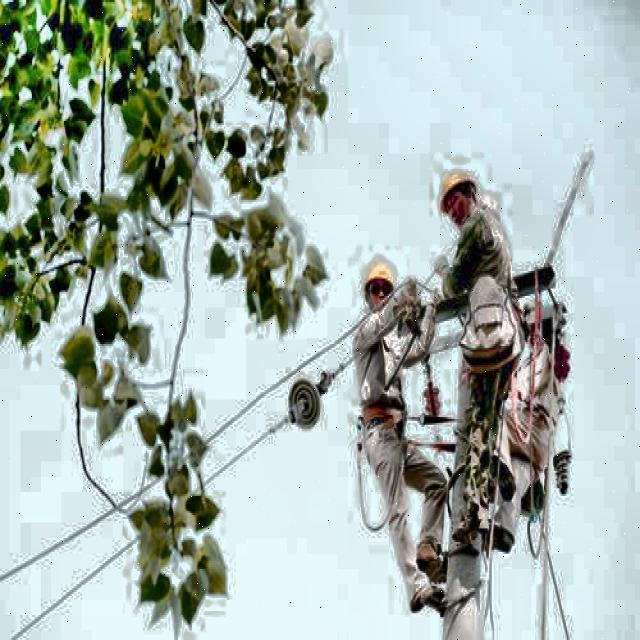helmet: (435, 164, 480, 232), (363, 253, 397, 316)
